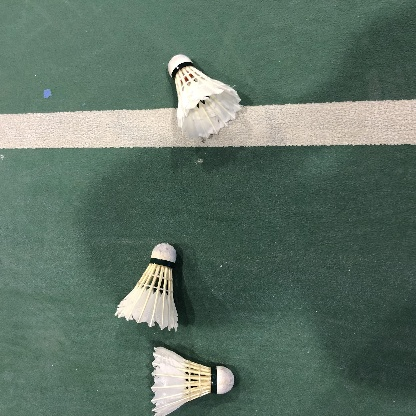ball_single: (168, 54, 241, 139), (151, 346, 234, 416), (114, 243, 179, 332)
